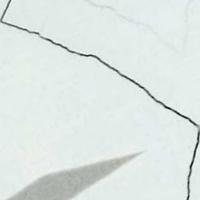crack: (0, 0, 199, 197)
